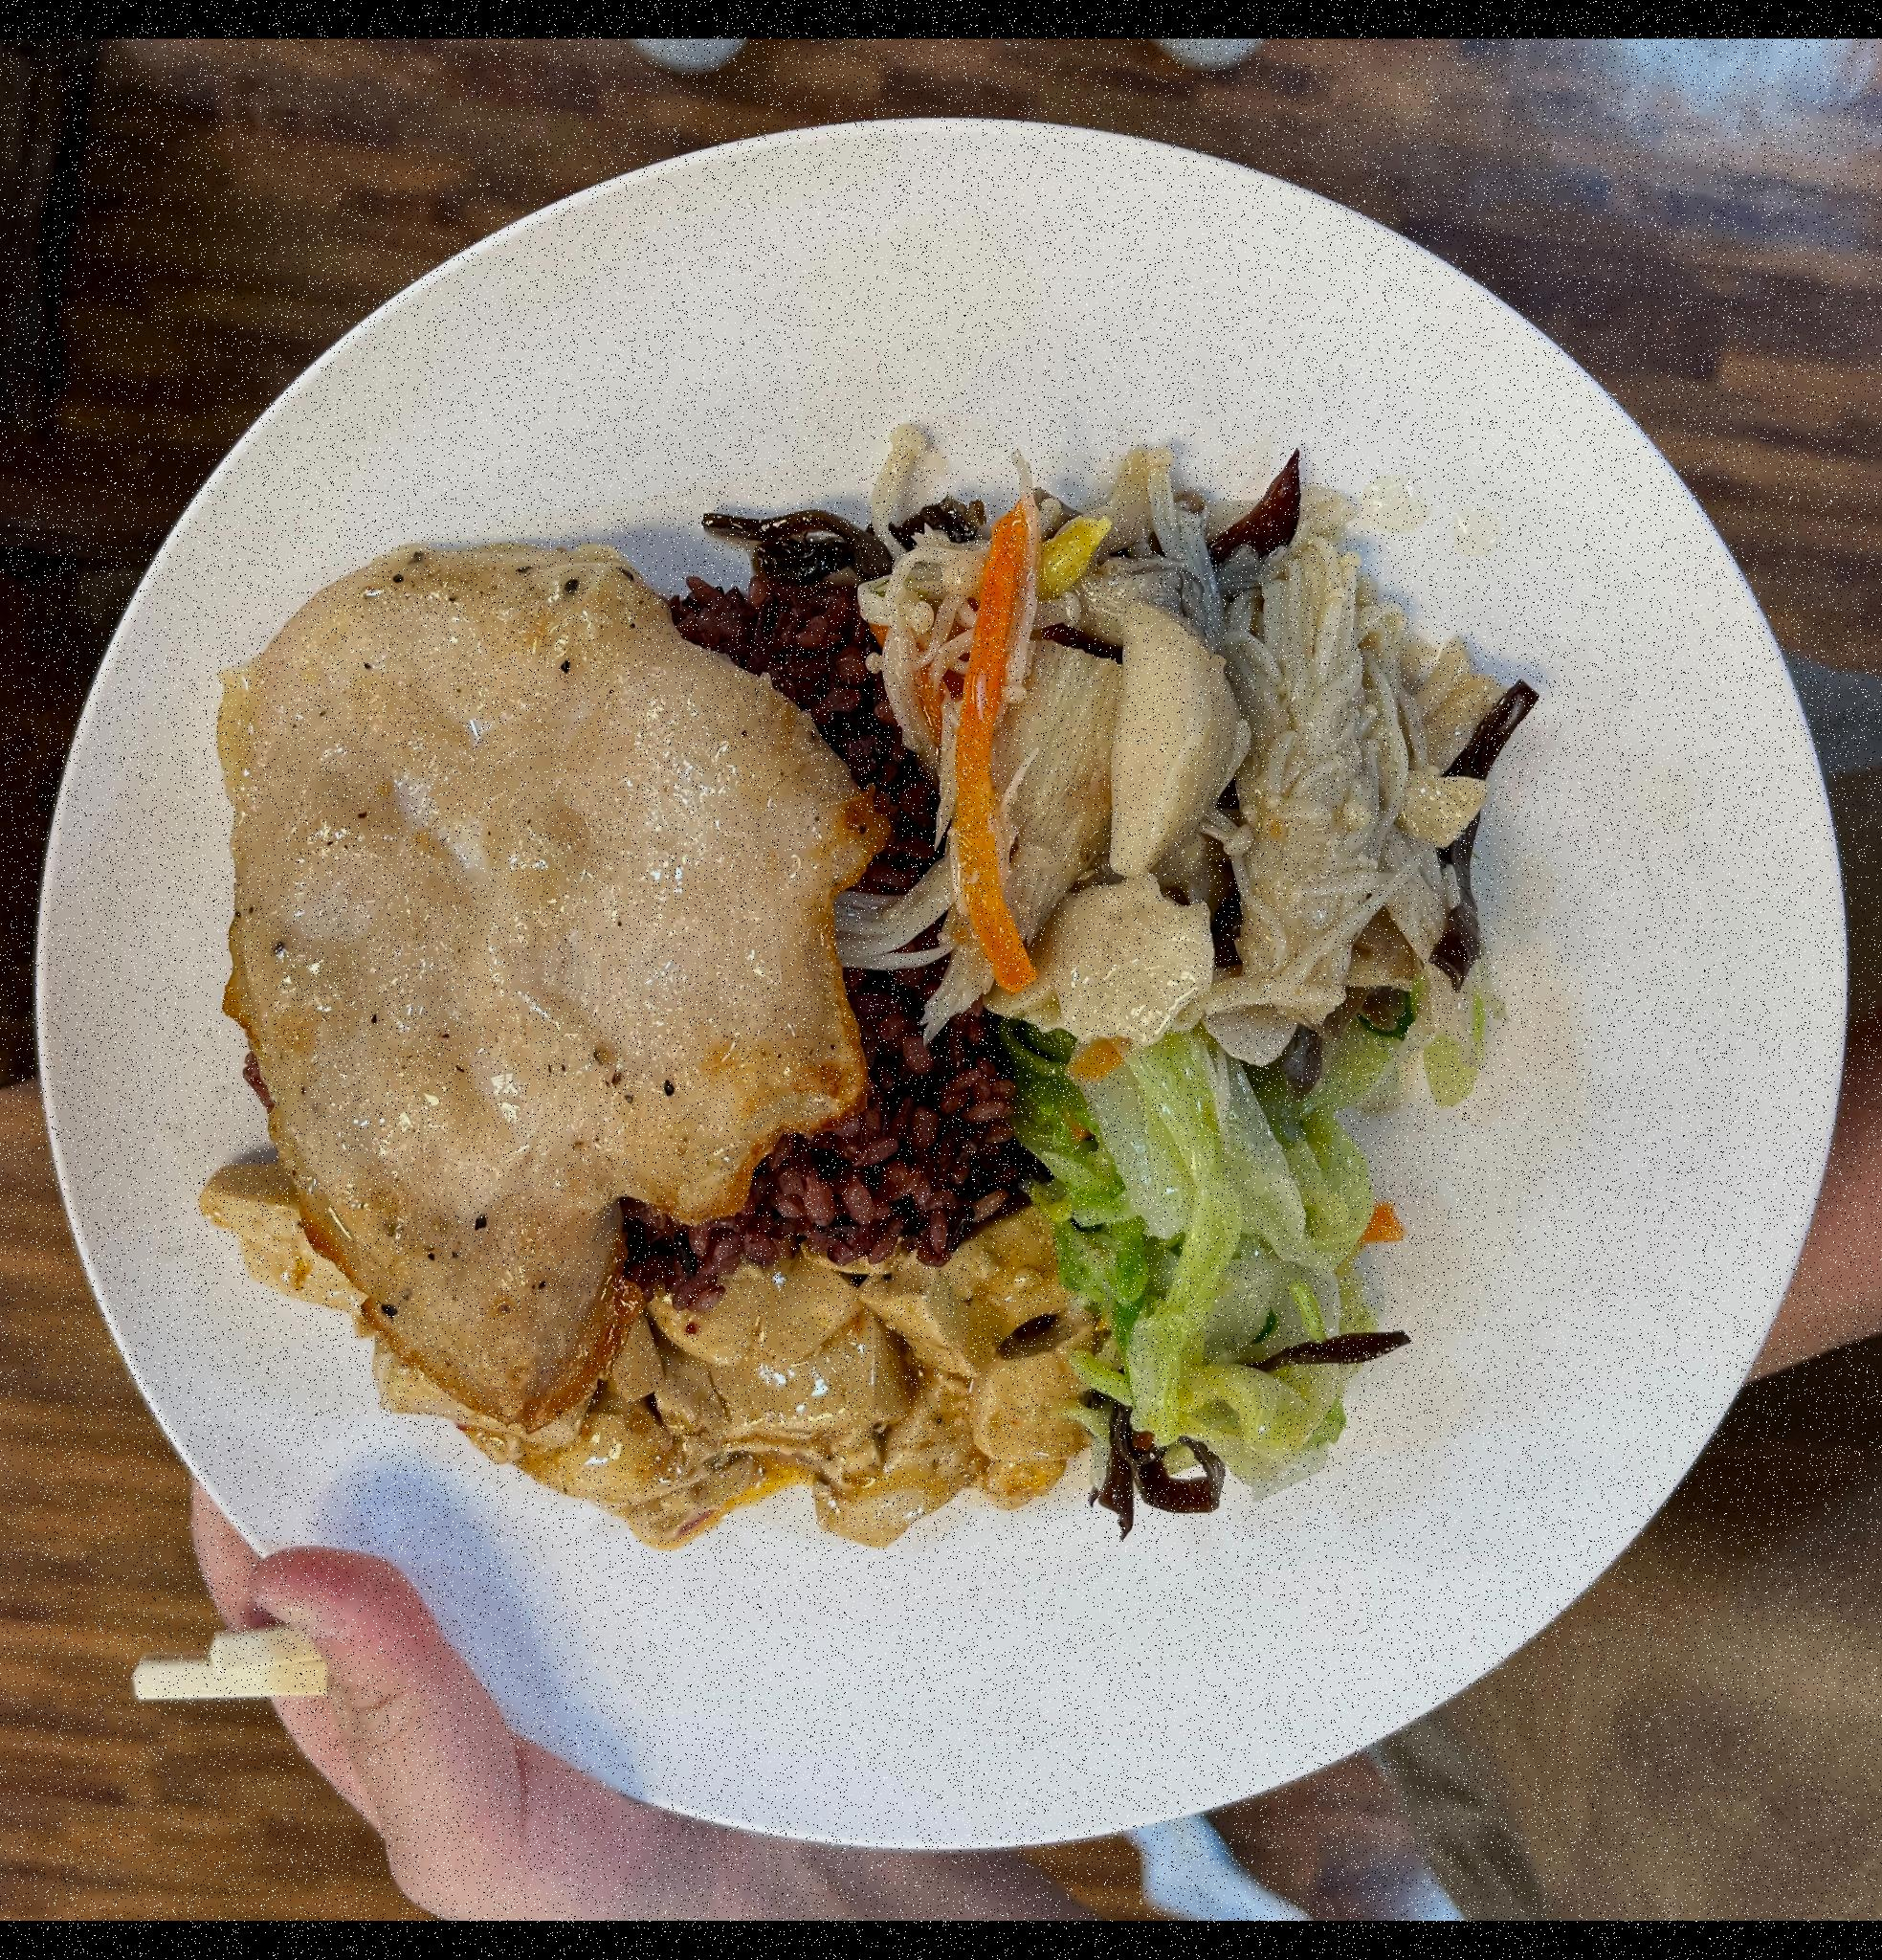grilled chicken steak: (204, 545, 840, 1432)
plate: (26, 90, 1841, 1870)
purple rice: (561, 481, 1020, 1298)
side dish: (878, 471, 1508, 1074), (457, 1217, 1089, 1547), (1014, 953, 1362, 1527)
